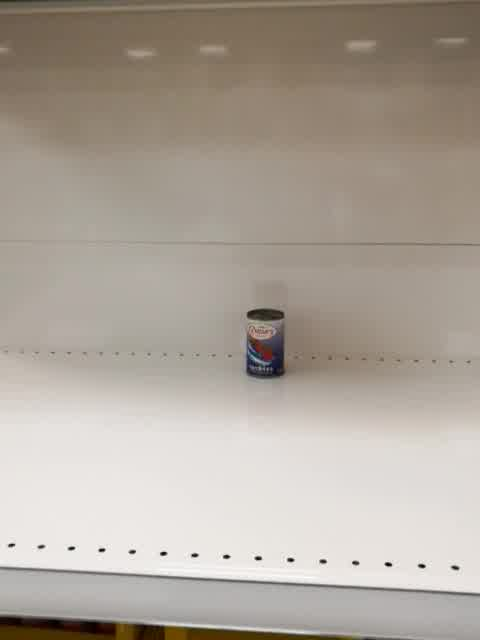sardine: (244, 307, 287, 379)
